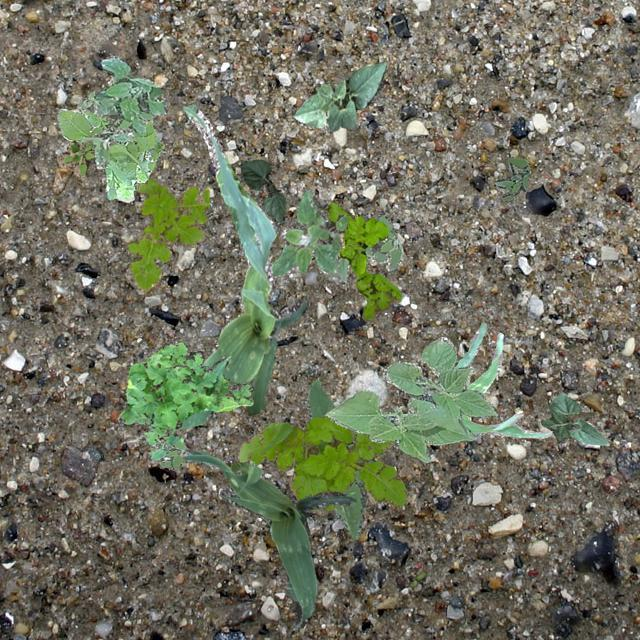crop: (175, 102, 308, 428), (178, 449, 354, 626), (324, 336, 498, 462), (452, 322, 550, 438), (290, 61, 386, 130), (540, 390, 610, 444), (240, 158, 284, 226)
weed: (116, 339, 252, 458), (238, 416, 406, 510), (56, 75, 162, 198), (304, 379, 376, 538), (76, 54, 166, 168), (125, 178, 208, 292), (326, 200, 400, 320), (270, 186, 346, 276), (316, 210, 402, 284), (494, 156, 528, 202), (56, 140, 94, 177), (158, 440, 188, 470)
